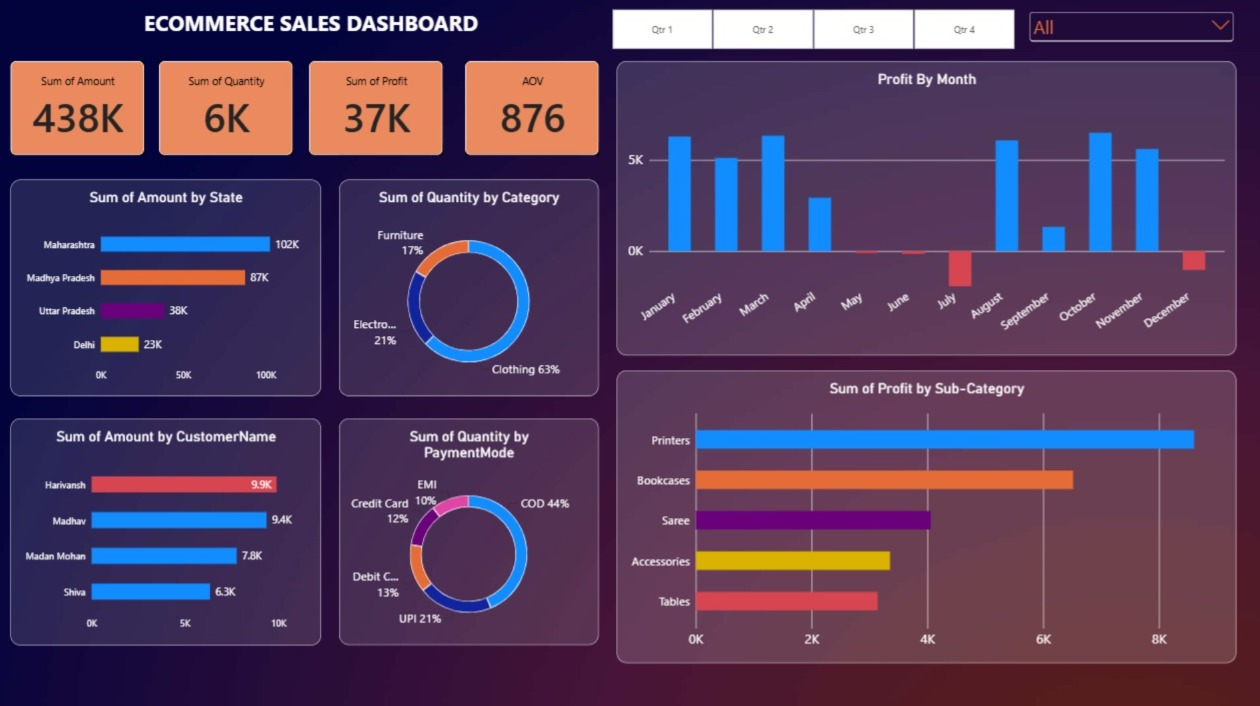

This screenshot's page, from the dashboard's own definition file:
{"tool":"powerbi","page":{"name":"Page 1","canvas":[1920,1080],"ordinal":0},"visuals":[{"type":"textbox","box":[227.5,20,640,260],"z":0},{"type":"columnChart","title":"Profit By Month","fields":{"Category":["Orders.Order Date.Variation.Date Hierarchy.Month"],"Y":["Sum(Details.Profit)"]},"box":[942.5,100,937.5,445],"z":1000},{"type":"barChart","fields":{"Category":["Details.Sub-Category"],"Y":["Sum(Details.Profit)"]},"box":[942.5,567.5,937.5,442.5],"z":2000},{"type":"donutChart","fields":{"Category":["Details.Category"],"Y":["Sum(Details.Quantity)"]},"box":[522.5,280,392.5,327.5],"z":3000},{"type":"donutChart","fields":{"Category":["Details.PaymentMode"],"Y":["Sum(Details.Quantity)"]},"box":[522.5,640,392.5,342.5],"z":4000},{"type":"cardVisual","fields":{"Data":["Sum(Details.Amount)"]},"box":[25,100,202.5,142.5],"z":5000},{"type":"cardVisual","fields":{"Data":["Sum(Details.Quantity)"]},"box":[250,100,202.5,142.5],"z":6000},{"type":"cardVisual","fields":{"Data":["Sum(Details.Profit)"]},"box":[477.5,100,202.5,142.5],"z":7000},{"type":"cardVisual","fields":{"Data":["Details.AOV"]},"box":[712.5,100,202.5,142.5],"z":8000},{"type":"barChart","fields":{"Category":["Orders.State"],"Y":["Sum(Details.Amount)"]},"box":[25,280,470,327.5],"z":9000},{"type":"barChart","fields":{"Category":["Orders.CustomerName"],"Y":["Sum(Details.Amount)"]},"box":[25,640,470,343],"z":9001},{"type":"slicer","fields":{"Values":["Orders.Order Date.Variation.Date Hierarchy.Quarter"]},"box":[915,20,647.5,62.5],"z":9002},{"type":"slicer","fields":{"Values":["Orders.City"]},"box":[1562.5,20,317.5,130],"z":9003}]}

Visuals, with their boxes in screenshot pixels (x1, y1, x2, y2), scaled from the page's 1920x1080 canvas onto the 1260x706 screenshot:
textbox: bbox(149, 13, 569, 183)
"Profit By Month" columnChart: bbox(619, 65, 1234, 356)
barChart - Details.Sub-Category x Sum(Details.Profit): bbox(619, 371, 1234, 660)
donutChart - Details.Category x Sum(Details.Quantity): bbox(343, 183, 600, 397)
donutChart - Details.PaymentMode x Sum(Details.Quantity): bbox(343, 418, 600, 642)
cardVisual - Sum(Details.Amount): bbox(16, 65, 149, 159)
cardVisual - Sum(Details.Quantity): bbox(164, 65, 297, 159)
cardVisual - Sum(Details.Profit): bbox(313, 65, 446, 159)
cardVisual - Details.AOV: bbox(468, 65, 600, 159)
barChart - Orders.State x Sum(Details.Amount): bbox(16, 183, 325, 397)
barChart - Orders.CustomerName x Sum(Details.Amount): bbox(16, 418, 325, 643)
slicer - Orders.Order Date.Variation.Date Hierarchy.Quarter: bbox(600, 13, 1025, 54)
slicer - Orders.City: bbox(1025, 13, 1234, 98)
